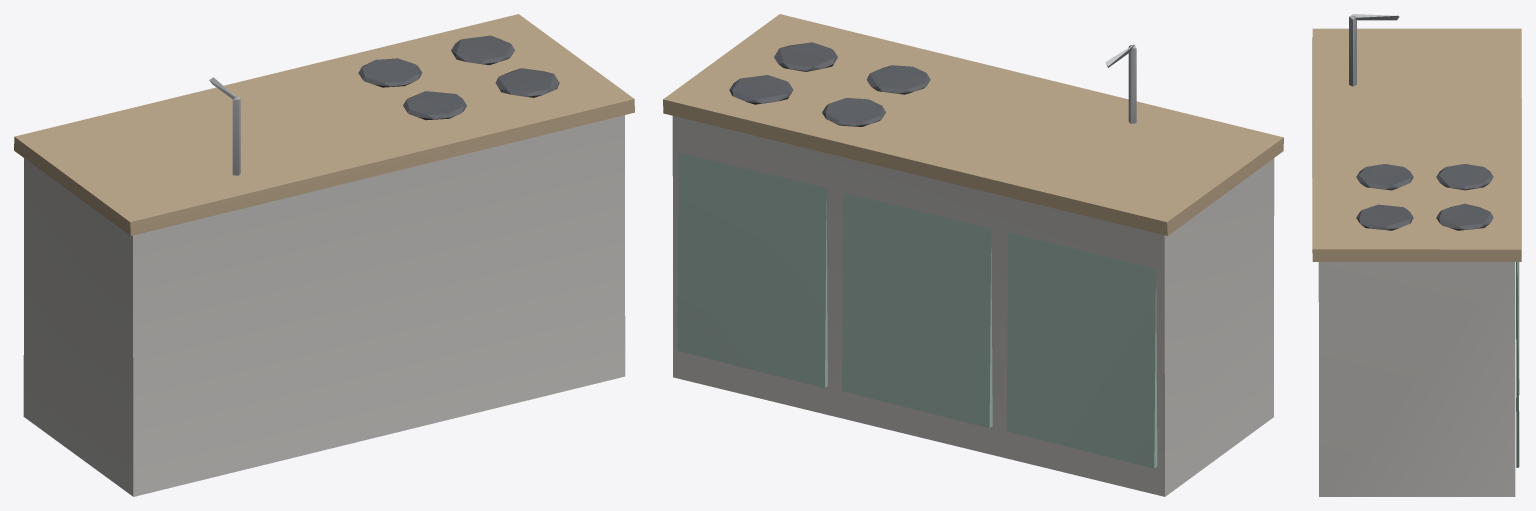
File: furn_counter__white_low.glb
The picture shows the model from 3 angles, left to right: view 1: azimuth 30°, elevation 25°; view 2: azimuth 150°, elevation 25°; view 3: azimuth 270°, elevation 25°; orthographic projection. The views are drawn at different scales.
Size of the model in its own units: 1.63 by 1.1 by 0.6537.
